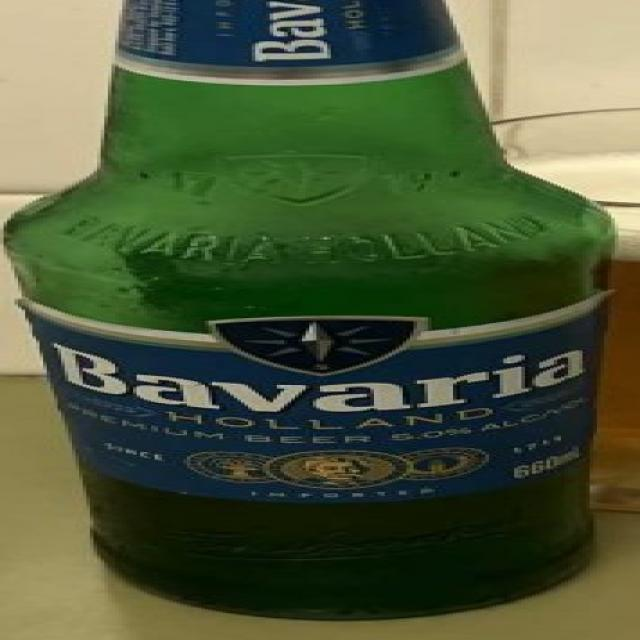Bavaria Malt Non-Alcoholic: (0, 1, 640, 640)
